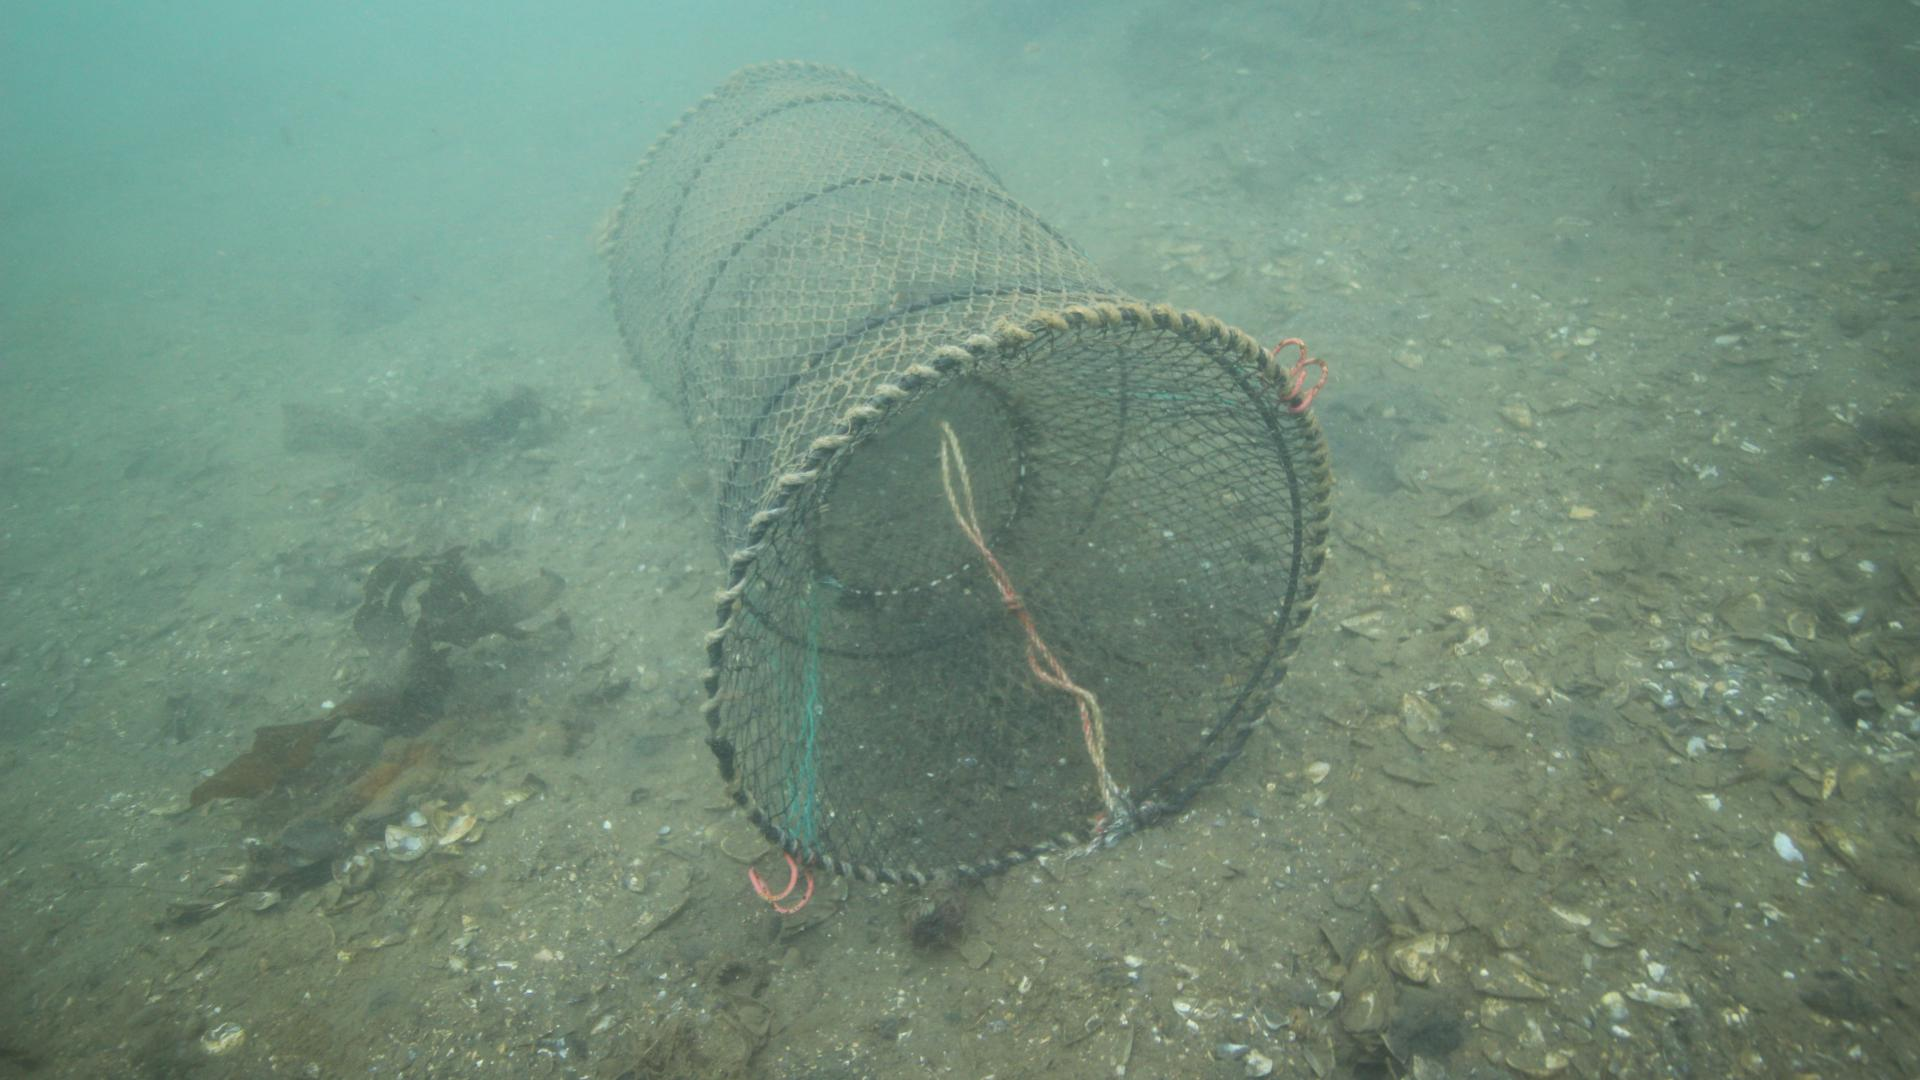spring fish trap: (603, 55, 1337, 890)
